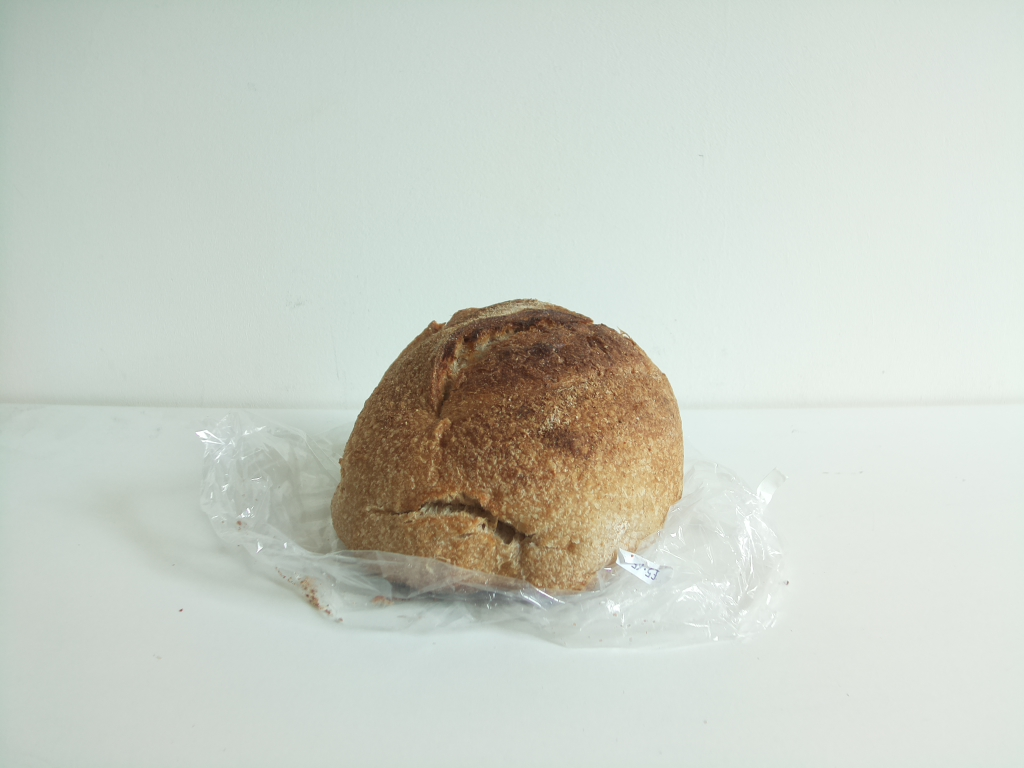bread: (331, 294, 682, 605)
